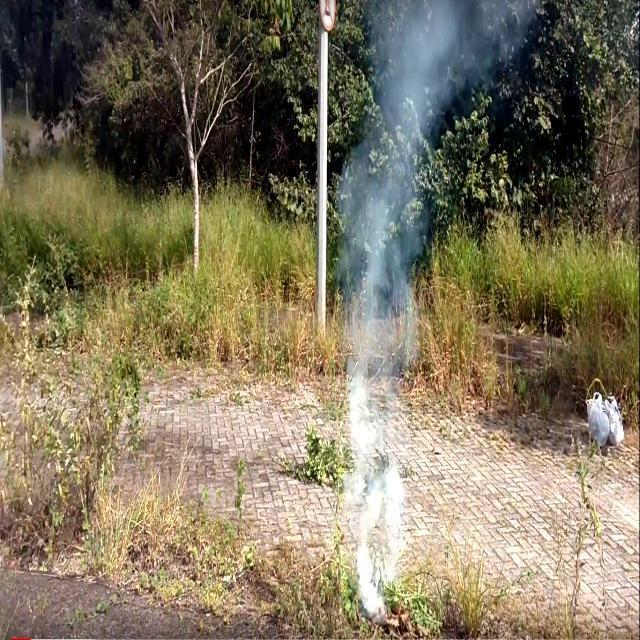Smoke: (306, 6, 431, 603)
